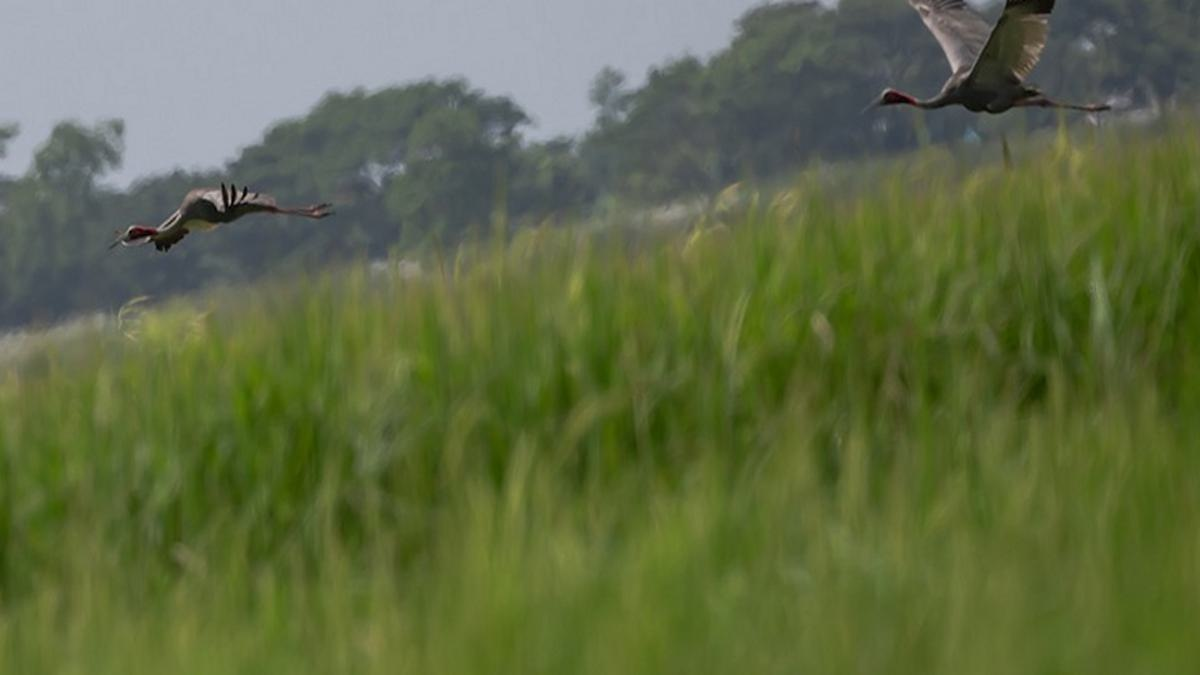crane: (838, 1, 1129, 134), (86, 171, 344, 248)
